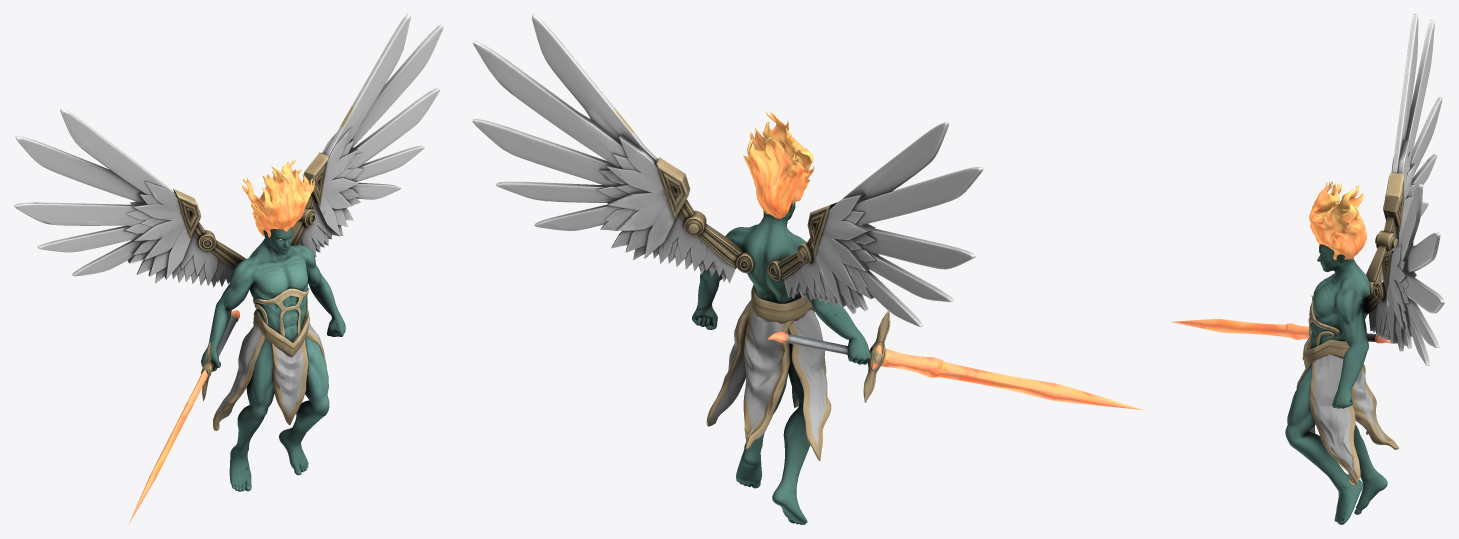
File: MZ4250 - Planetar Male 2025 4K.glb
The picture shows the model from 3 angles, left to right: view 1: azimuth 30°, elevation 25°; view 2: azimuth 150°, elevation 25°; view 3: azimuth 270°, elevation 25°; orthographic projection. The views are drawn at different scales.
Visible parts, largest first — view 1: Body.002; view 2: Body.002; view 3: Body.002.
Part boxes in pixels (x1,y1,x2,y2): Body.002: (14,14,443,523); Body.002: (472,14,1141,524); Body.002: (1172,14,1444,524).
Size of the model in its own units: 231 by 204 by 118.
2 materials, 2 textured.
